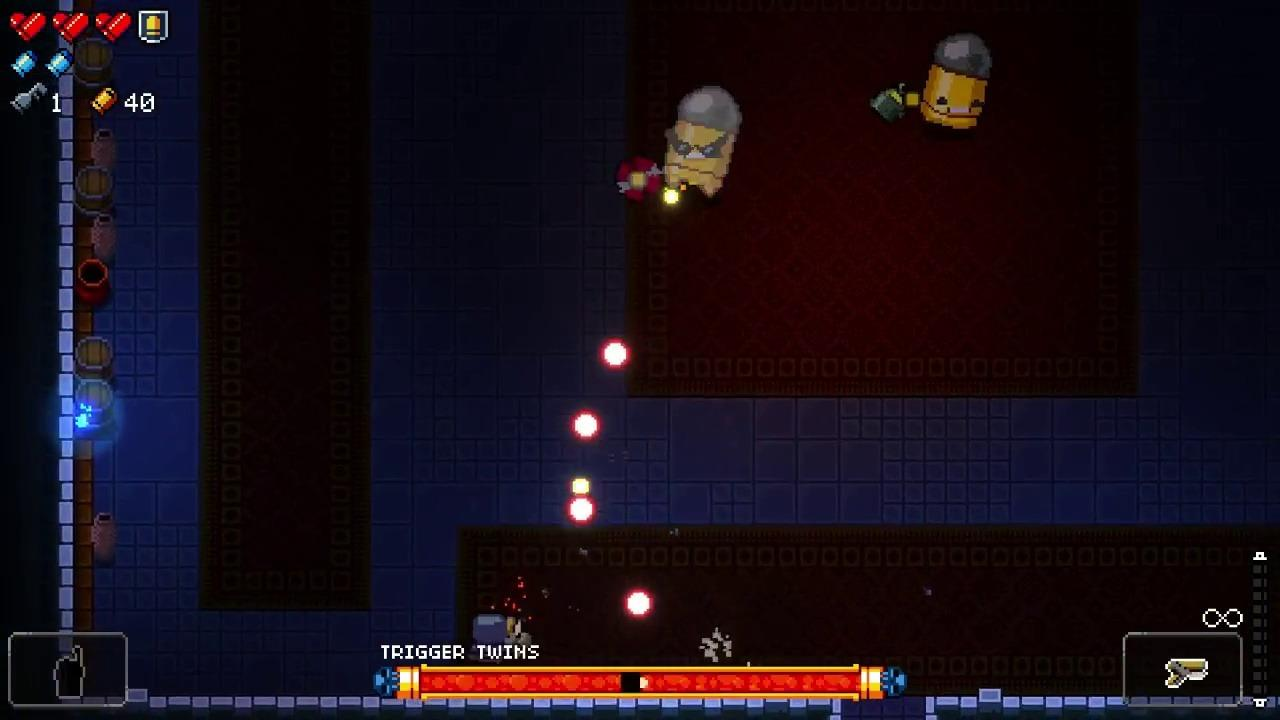boss_shades: (666, 86, 742, 201)
boss_smiley: (920, 33, 991, 132)
bullet: (568, 494, 597, 527), (600, 339, 630, 370), (570, 412, 602, 440), (625, 591, 653, 619)
player: (472, 614, 506, 661)
